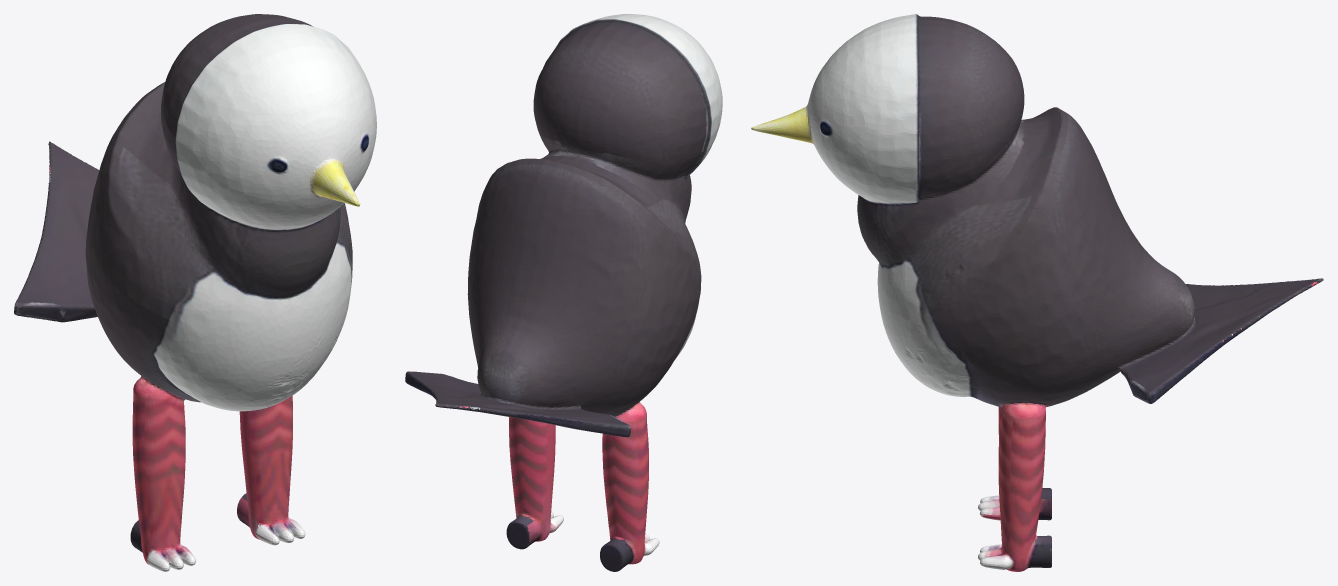
Rendered from creature-035.glb.
The picture shows the model from 3 angles, left to right: view 1: azimuth 30°, elevation 25°; view 2: azimuth 150°, elevation 25°; view 3: azimuth 270°, elevation 25°; orthographic projection. The views are drawn at different scales.
Parts seen in each view (by area): view 1: tmpe5frivy9.ply; view 2: tmpe5frivy9.ply; view 3: tmpe5frivy9.ply.
Boxes of the visible parts, x1,y1,x2,y2 form: tmpe5frivy9.ply: (14, 14, 376, 571); tmpe5frivy9.ply: (405, 14, 722, 571); tmpe5frivy9.ply: (751, 14, 1323, 571).
Bounding box in the file's own units: 0.9523 × 1.99 × 1.99.
1 material, 1 textured.
